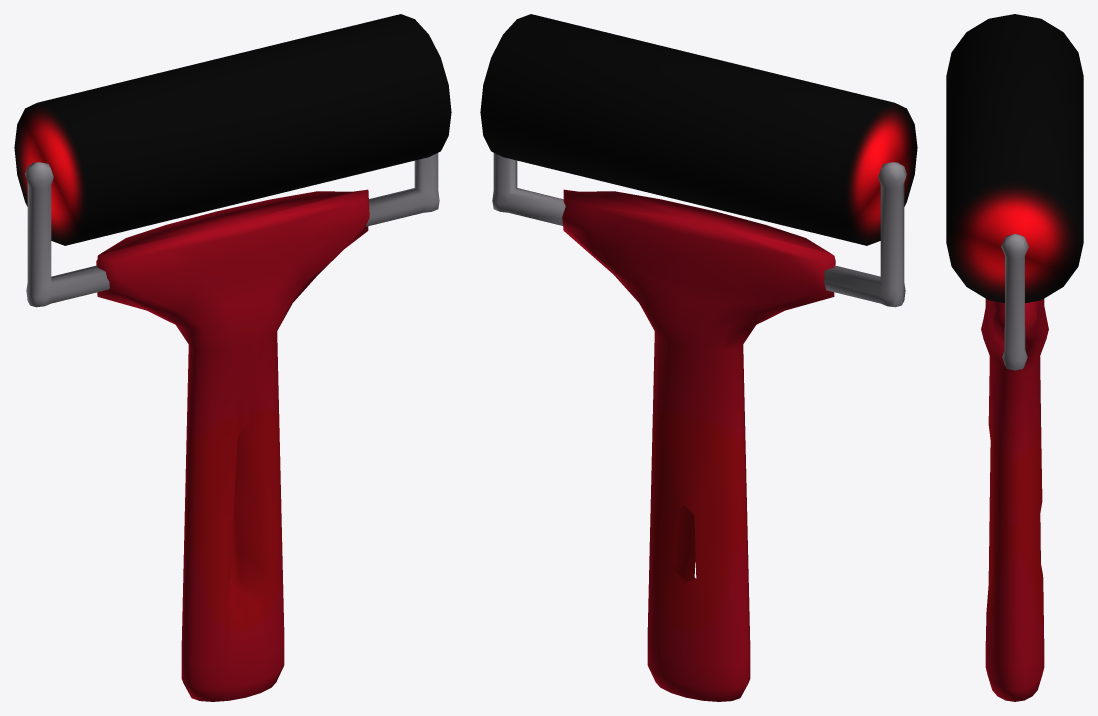
File: rolo_de_tinta.fbx
The picture shows the model from 3 angles, left to right: view 1: azimuth 30°, elevation 25°; view 2: azimuth 150°, elevation 25°; view 3: azimuth 270°, elevation 25°; orthographic projection. The views are drawn at different scales.
Parts seen in each view (by area): view 1: rolo, cabo, haste; view 2: rolo, cabo, haste; view 3: rolo, cabo, haste.
Boxes of the visible parts, <box> form: rolo: <box>14,14,451,245</box>; cabo: <box>96,189,369,701</box>; haste: <box>25,153,439,307</box>; rolo: <box>480,14,917,245</box>; cabo: <box>562,189,835,701</box>; haste: <box>492,153,906,307</box>; rolo: <box>946,14,1083,303</box>; cabo: <box>981,299,1048,701</box>; haste: <box>1001,233,1028,370</box>.
Bounding box in the file's own units: 243 × 356 × 74.56.
Materials: 3 (3 with a texture image).
